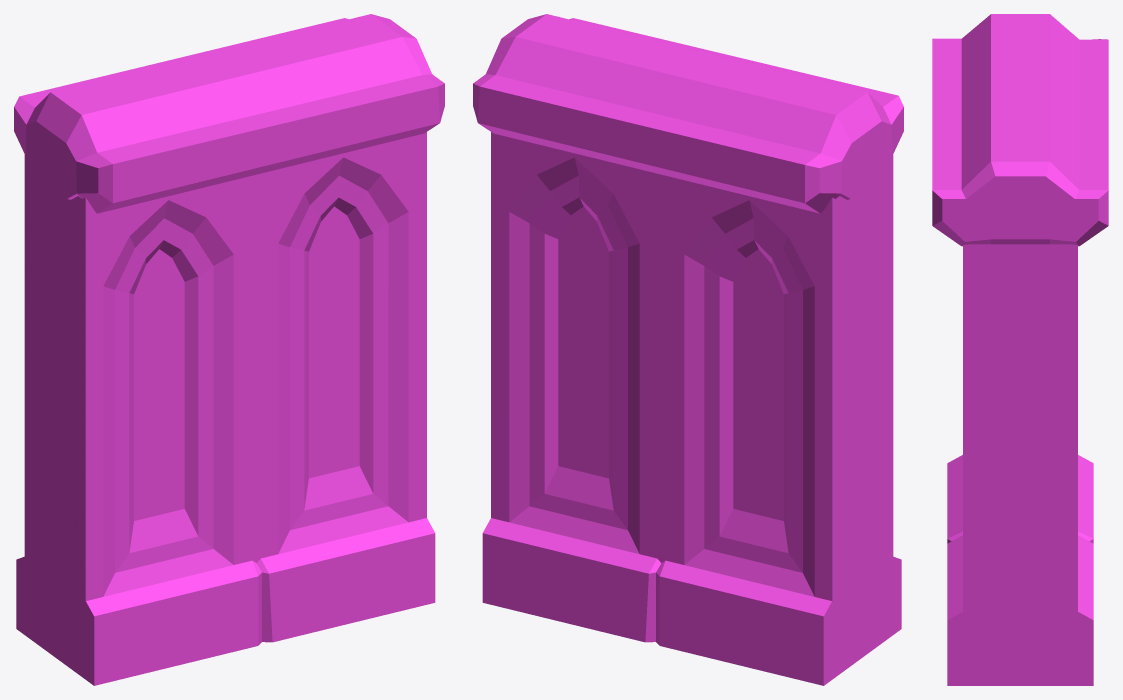
Rendered from SM_Railing_Stone_1m_B_Fantasy.fbx.
The picture shows the model from 3 angles, left to right: view 1: azimuth 30°, elevation 25°; view 2: azimuth 150°, elevation 25°; view 3: azimuth 270°, elevation 25°; orthographic projection. The views are drawn at different scales.
Visible parts, largest first — view 1: SM_Railing_Stone_1m_B_Fantasy; view 2: SM_Railing_Stone_1m_B_Fantasy; view 3: SM_Railing_Stone_1m_B_Fantasy.
Part boxes in pixels (left/top/right/bottom): SM_Railing_Stone_1m_B_Fantasy: left=14, top=14, right=444, bottom=685; SM_Railing_Stone_1m_B_Fantasy: left=473, top=14, right=903, bottom=685; SM_Railing_Stone_1m_B_Fantasy: left=932, top=14, right=1108, bottom=685.
Size of the model in its own units: 1.03 by 1.54 by 0.4755.
